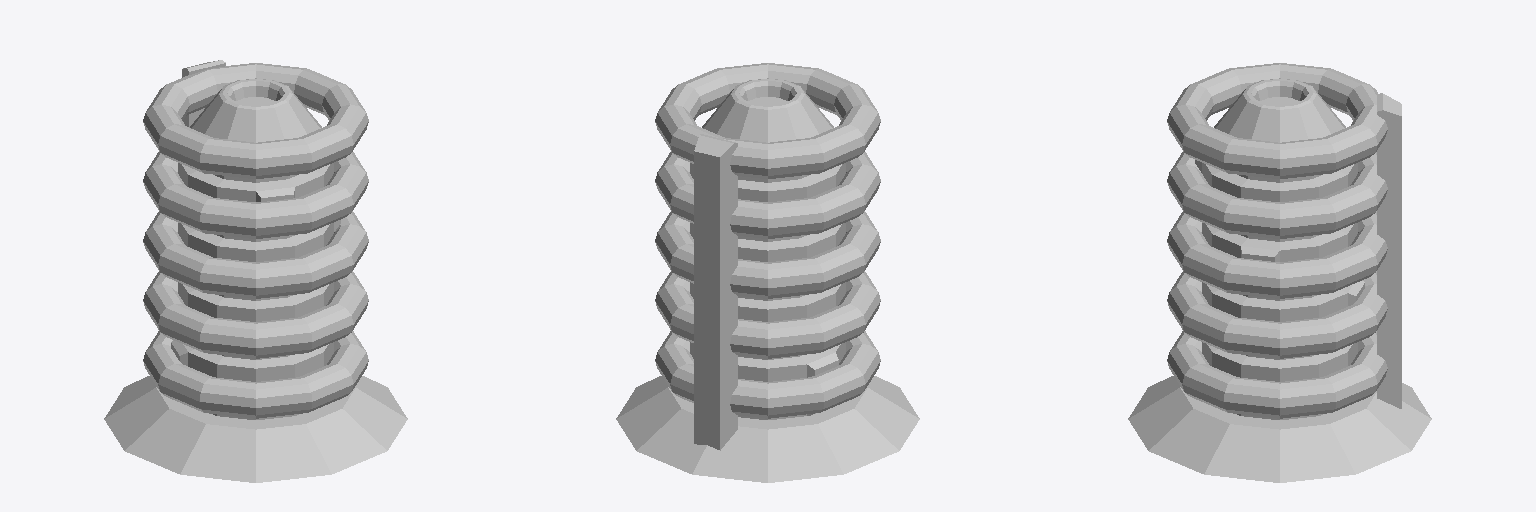
File: Generator_Pile_Chonky.obj
The picture shows the model from 3 angles: view 1: azimuth 30°, elevation 25°; view 2: azimuth 150°, elevation 25°; view 3: azimuth 270°, elevation 25°; orthographic projection.
Parts seen in each view (by area): view 1: Generator_Pile_Chonky; view 2: Generator_Pile_Chonky; view 3: Generator_Pile_Chonky.
Boxes of the visible parts, box(x1,y1,x2,y2) form: Generator_Pile_Chonky: box(104, 60, 407, 482); Generator_Pile_Chonky: box(616, 63, 919, 482); Generator_Pile_Chonky: box(1128, 63, 1431, 482).
Bounding box in the file's own units: 2.86 × 3.39 × 2.86.